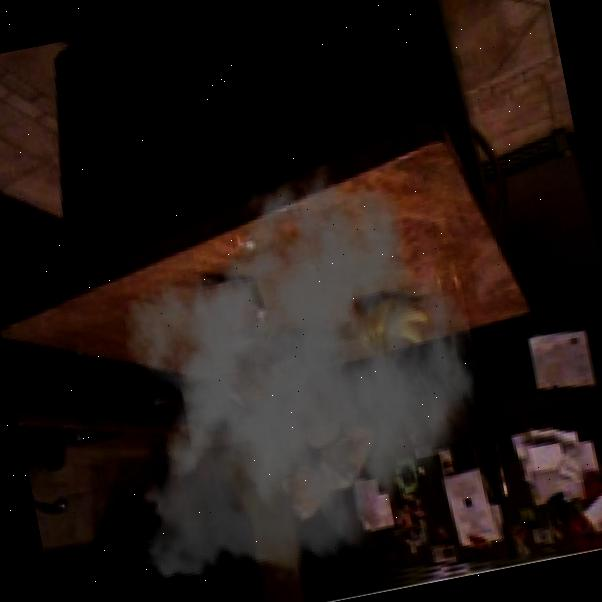smoke: (59, 134, 514, 602)
